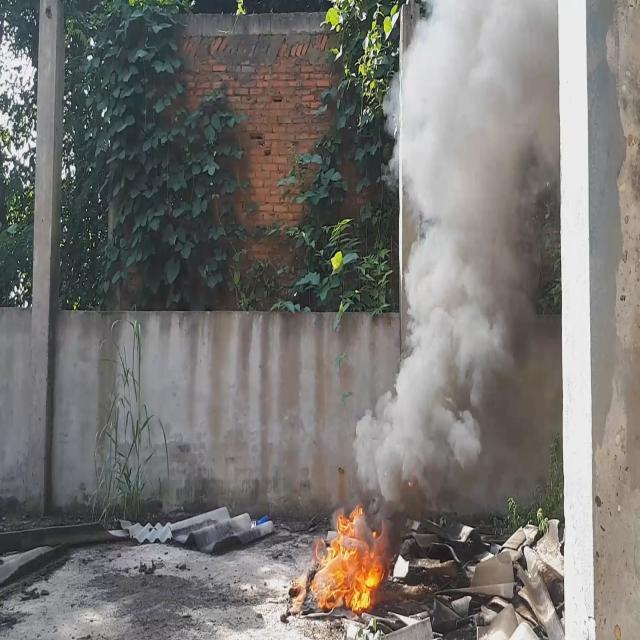Fire: (310, 501, 391, 621)
Smoke: (353, 0, 556, 521)
